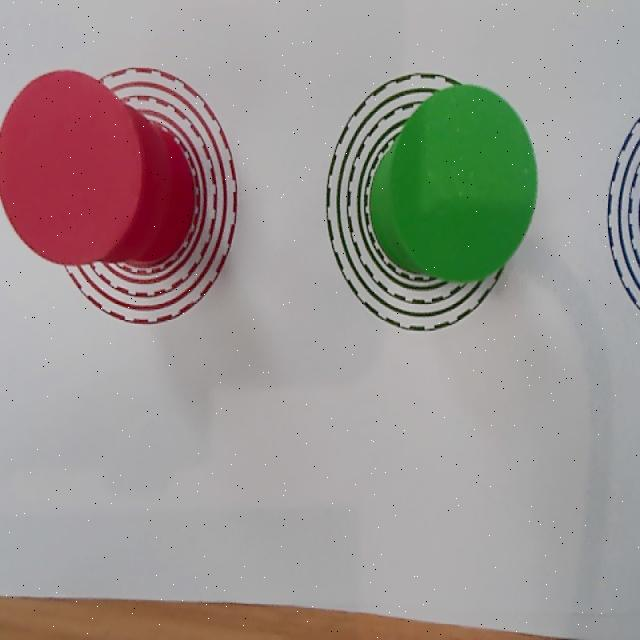g: (392, 84, 538, 282)
